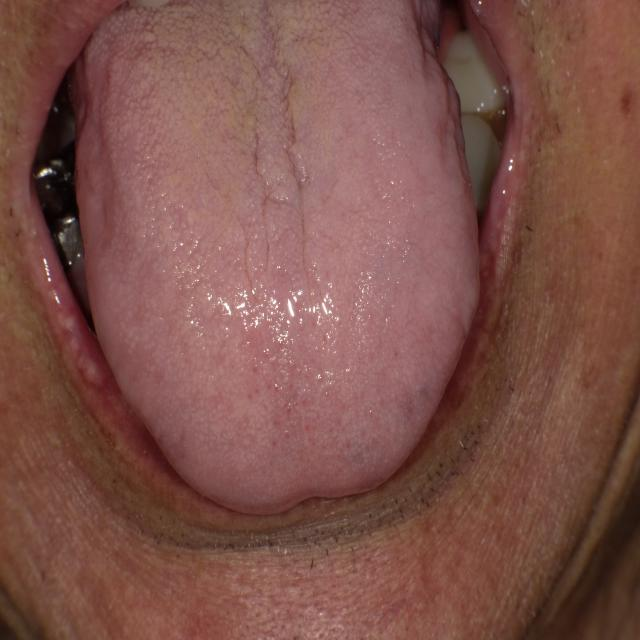chihenshe: (69, 142, 123, 258)
hongdianshe: (284, 403, 294, 416)
huangtaishe: (65, 3, 481, 514)
